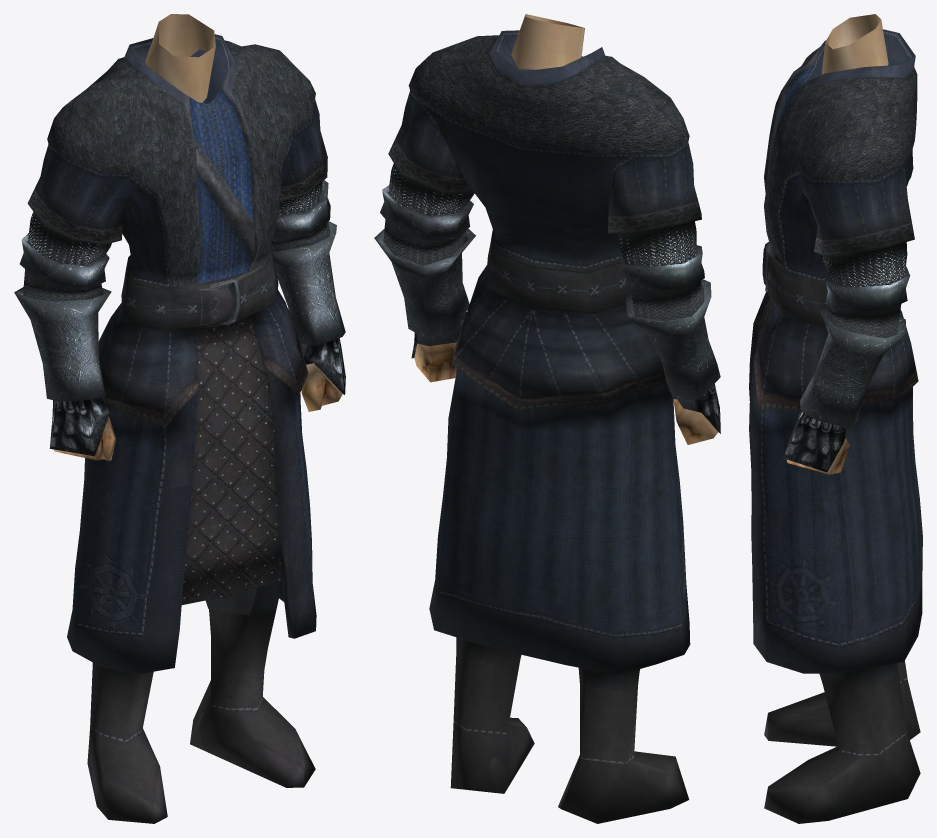
The model's file is MIL_SILDEN_SO_KOZA.glb.
3 renders of one model, left to right at view 1: azimuth 30°, elevation 25°; view 2: azimuth 150°, elevation 25°; view 3: azimuth 270°, elevation 25°, orthographic. The views are drawn at different scales.
Visible parts, largest first — view 1: MIL_SILDEN_SO_KOZA; view 2: MIL_SILDEN_SO_KOZA; view 3: MIL_SILDEN_SO_KOZA.
Boxes of the visible parts, x1,y1,x2,y2 form: MIL_SILDEN_SO_KOZA: [14, 14, 345, 823]; MIL_SILDEN_SO_KOZA: [374, 14, 720, 823]; MIL_SILDEN_SO_KOZA: [749, 14, 922, 823].
Bounding box in the file's own units: 0.7264 × 1.69 × 0.3543.
Materials: 2 (2 with a texture image).
